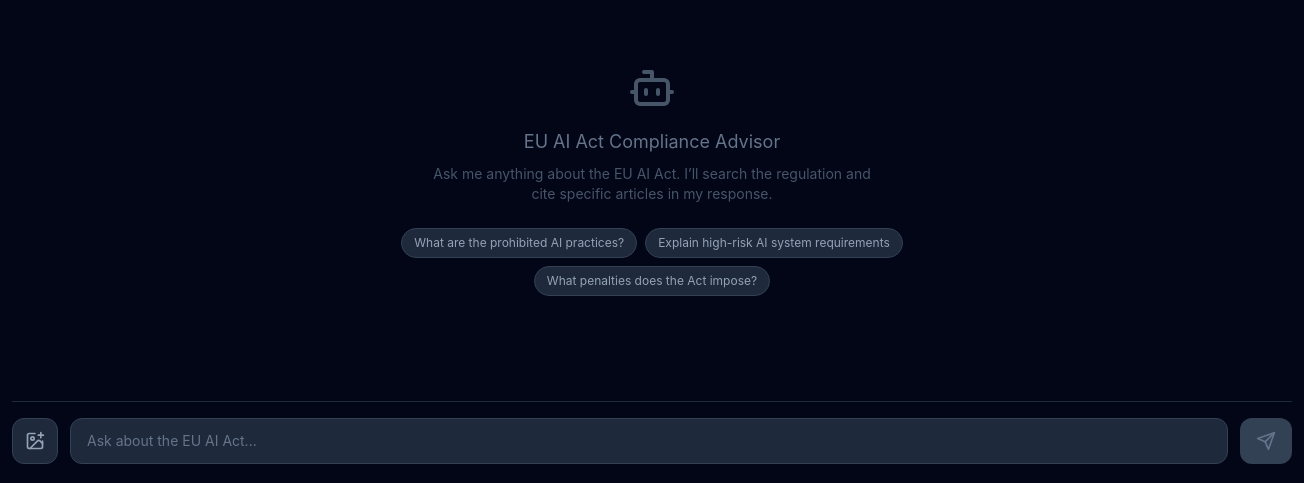
it: AgentChat › follow-up suggestions › fetches and renders follow-up pills after agent response completes
Type "What is biometric identification?" into the field with placeholder "Ask about the EU AI Act...".
click(649, 441); type("What is biometric identification?")  # box [70,418,1228,464]
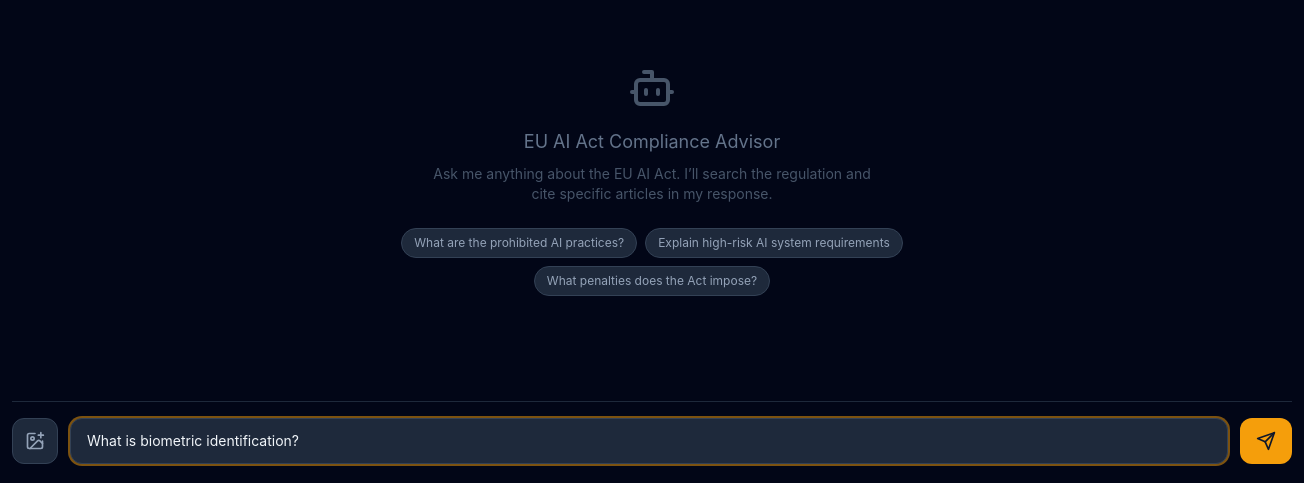
Click the 5th button.
click(1266, 441)  # box [1240,418,1292,464]
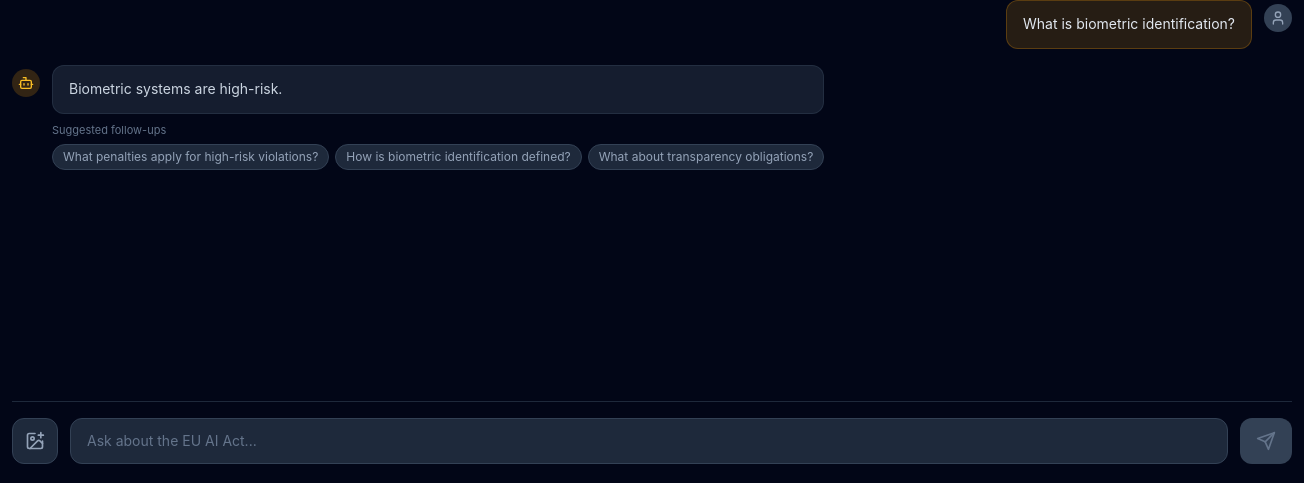
Check: the button "What penalties apply for high-risk violations?" is shown, box [52,144,329,170]
Check: the button "How is biometric identification defined?" is shown, box [335,144,582,170]
Check: the button "What about transparency obligations?" is shown, box [588,144,824,170]
